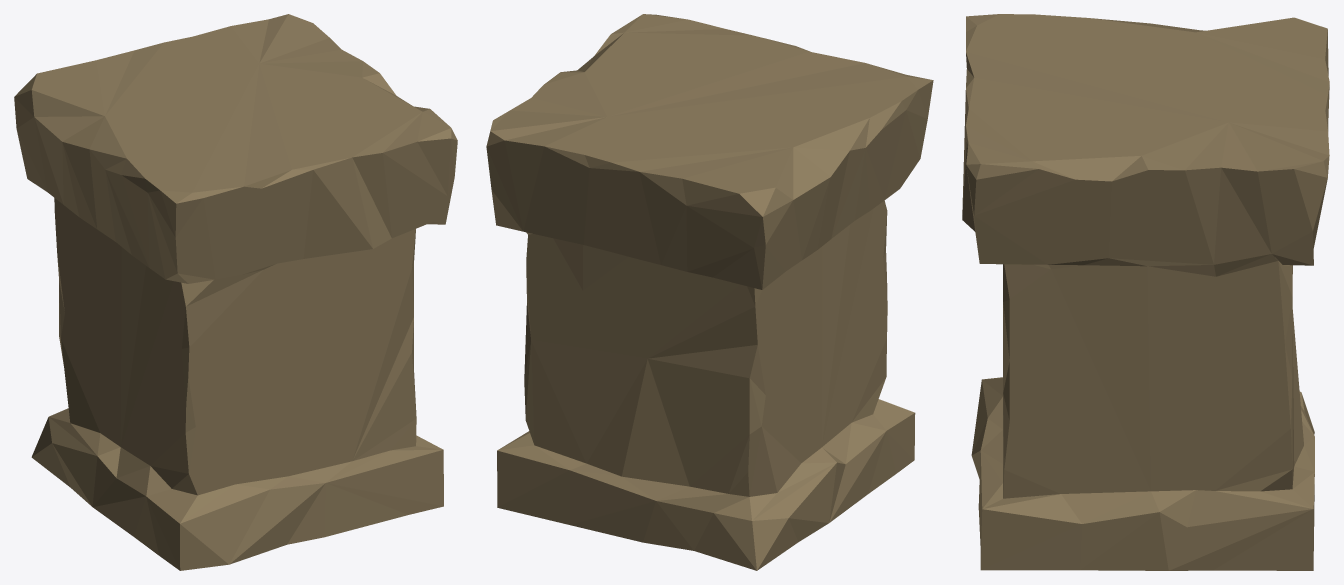
File: Altare_2.fbx
3 views of the same model, side by side, from view 1: azimuth 30°, elevation 25°; view 2: azimuth 150°, elevation 25°; view 3: azimuth 270°, elevation 25° (orthographic). The views are drawn at different scales.
Parts seen in each view (by area): view 1: Altare_2_low; view 2: Altare_2_low; view 3: Altare_2_low.
Boxes of the visible parts, x1,y1,x2,y2 form: Altare_2_low: (14,14,457,570); Altare_2_low: (486,14,933,570); Altare_2_low: (962,14,1329,570).
Size of the model in its own units: 0.8934 by 1.1 by 0.8901.
